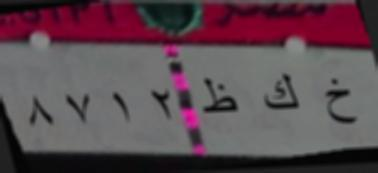1: (107, 89, 134, 127)
2: (147, 84, 175, 121)
7: (62, 91, 96, 128)
8: (24, 92, 56, 132)
Thaa: (198, 76, 238, 122)
kaaf: (256, 64, 302, 124)
khaa: (315, 70, 359, 132)
